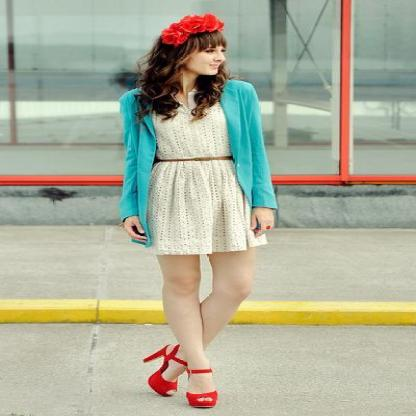dress: (148, 92, 267, 257)
jacket: (119, 80, 272, 224)
shoe: (144, 344, 211, 408)
